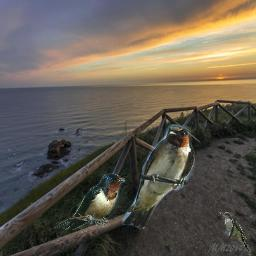Cuckoo: (220, 212, 251, 253)
Swallow: (121, 124, 195, 229), (53, 173, 125, 230)
